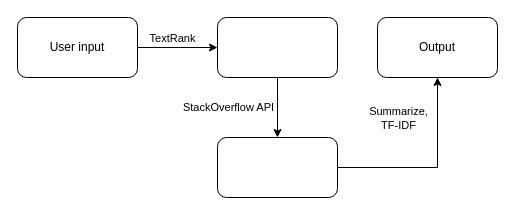
Some shapes in this 515 by 215 pixel diagram are drawn without their labels. The shapes that lost their labels are listed below. From the top down, each one's centre as x and y in pixels, then its label:
(277,47): Keywords
(277,167): Answer
